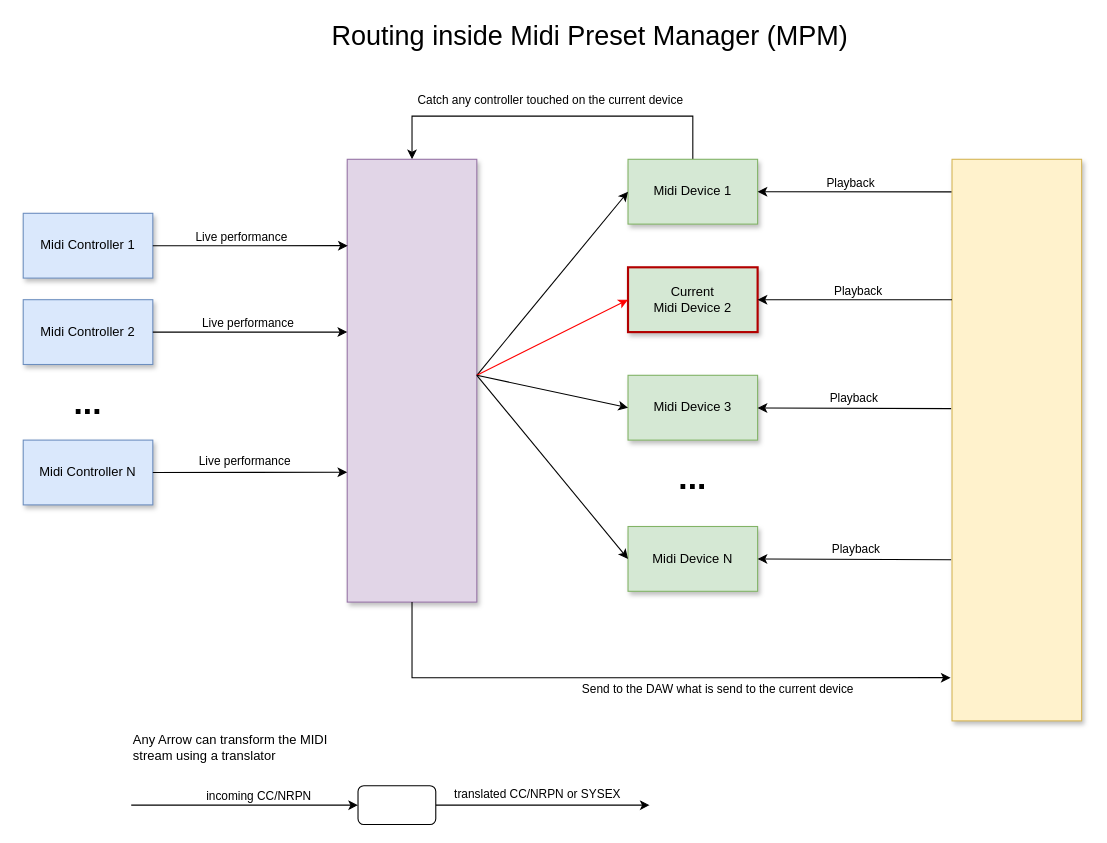
This 1107x843 diagram has some shape labels left out. The shapes that lost their labels are listed below. From the top down, each one's centre as x and y in pixels, then its label:
At point 412,382: "MIDI Router".
At point 1017,441: "DAW".
At point 396,805: "Translator".
